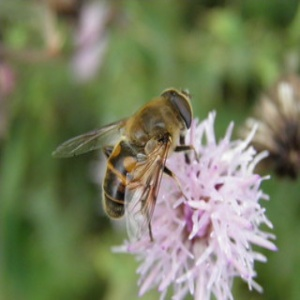bee: (51, 85, 200, 245)
